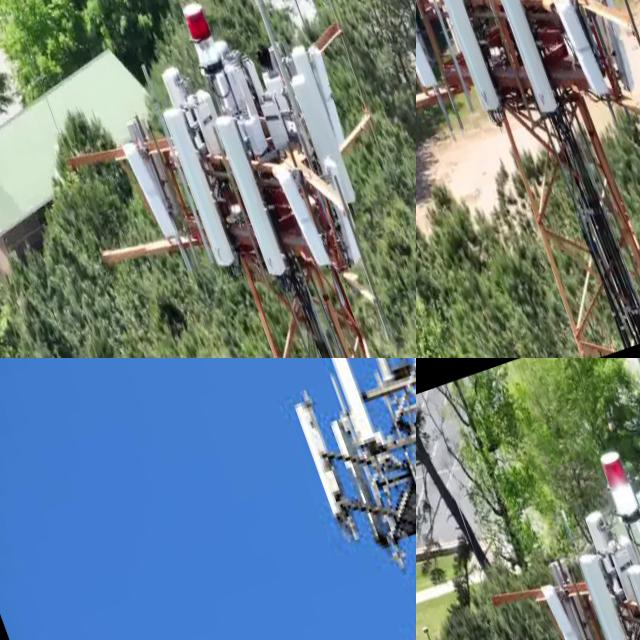GSM Antenna: (205, 109, 294, 292), (156, 99, 244, 274), (477, 0, 565, 123), (289, 391, 361, 533), (421, 0, 509, 116), (116, 132, 192, 262), (285, 63, 355, 198), (266, 153, 333, 267), (550, 0, 617, 107), (317, 358, 387, 449), (574, 548, 640, 640), (533, 570, 605, 640), (586, 0, 640, 92), (416, 0, 449, 105)
